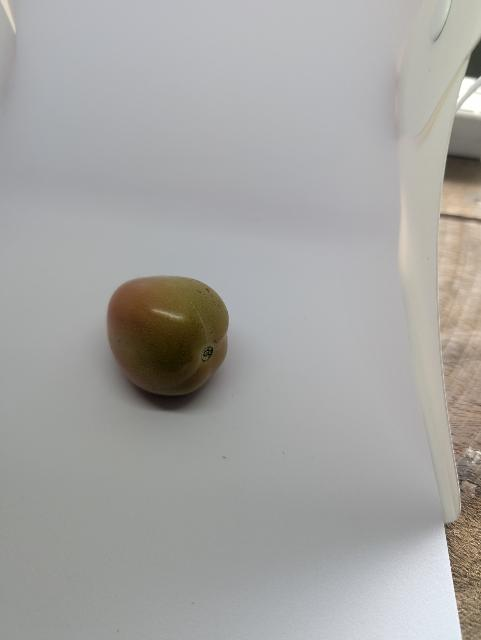breaker: (105, 273, 236, 404)
